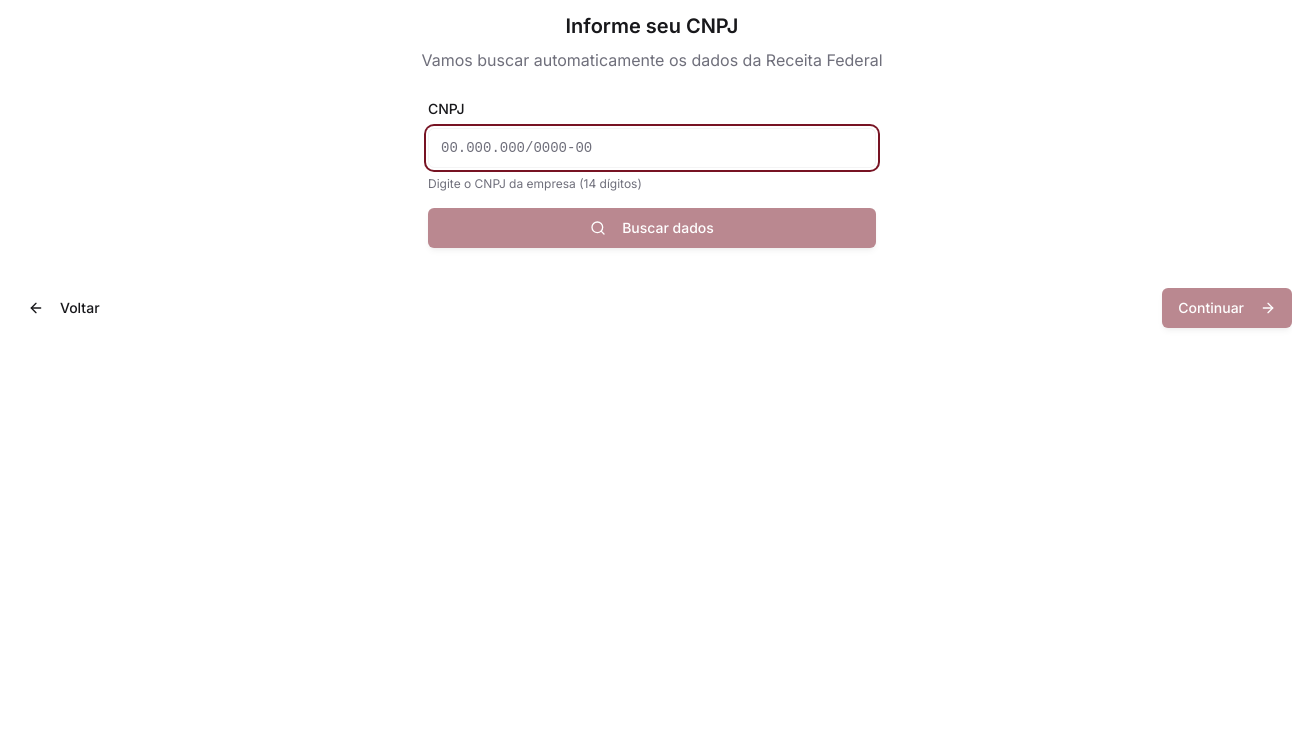
CnpjInput › search functionality › shows preview data after successful search
Type "11222333000181" into the field labelled "CNPJ" at (652, 148), box 428,128 -> 876,168
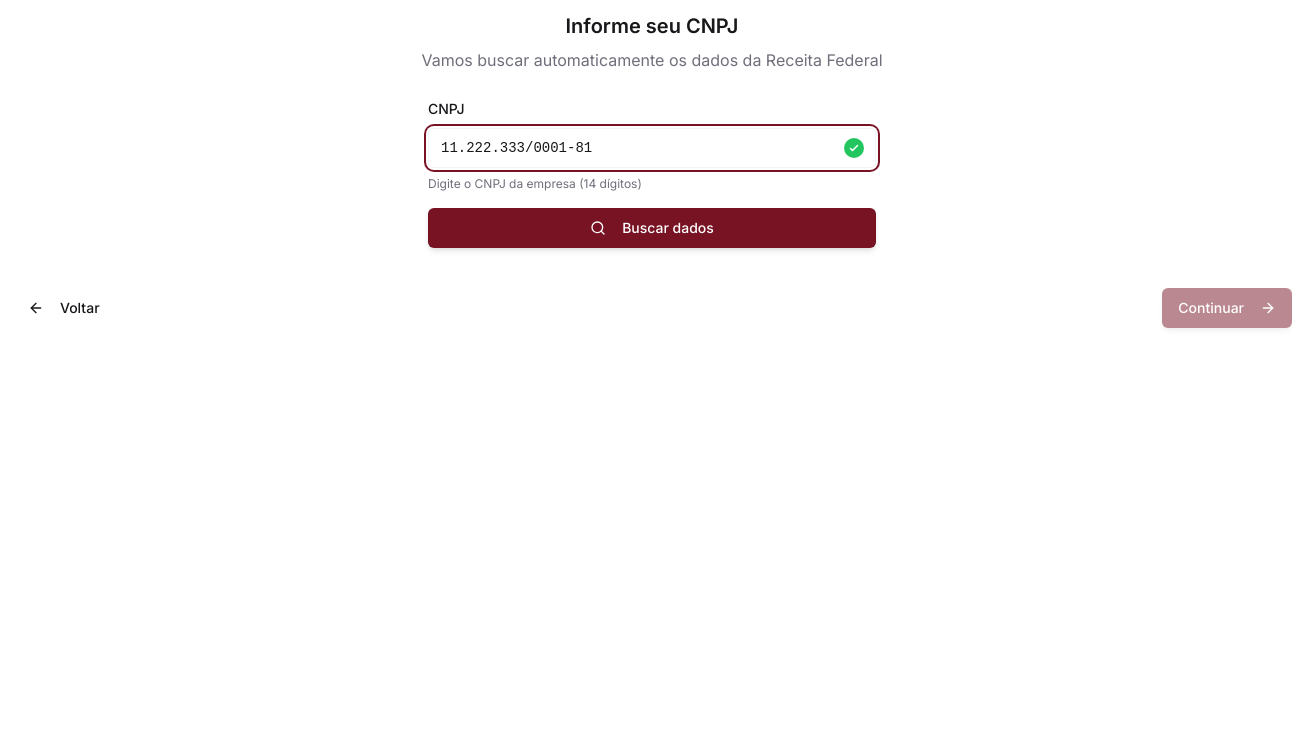
Click the button "Buscar dados" at (652, 228), box 428,208 -> 876,248
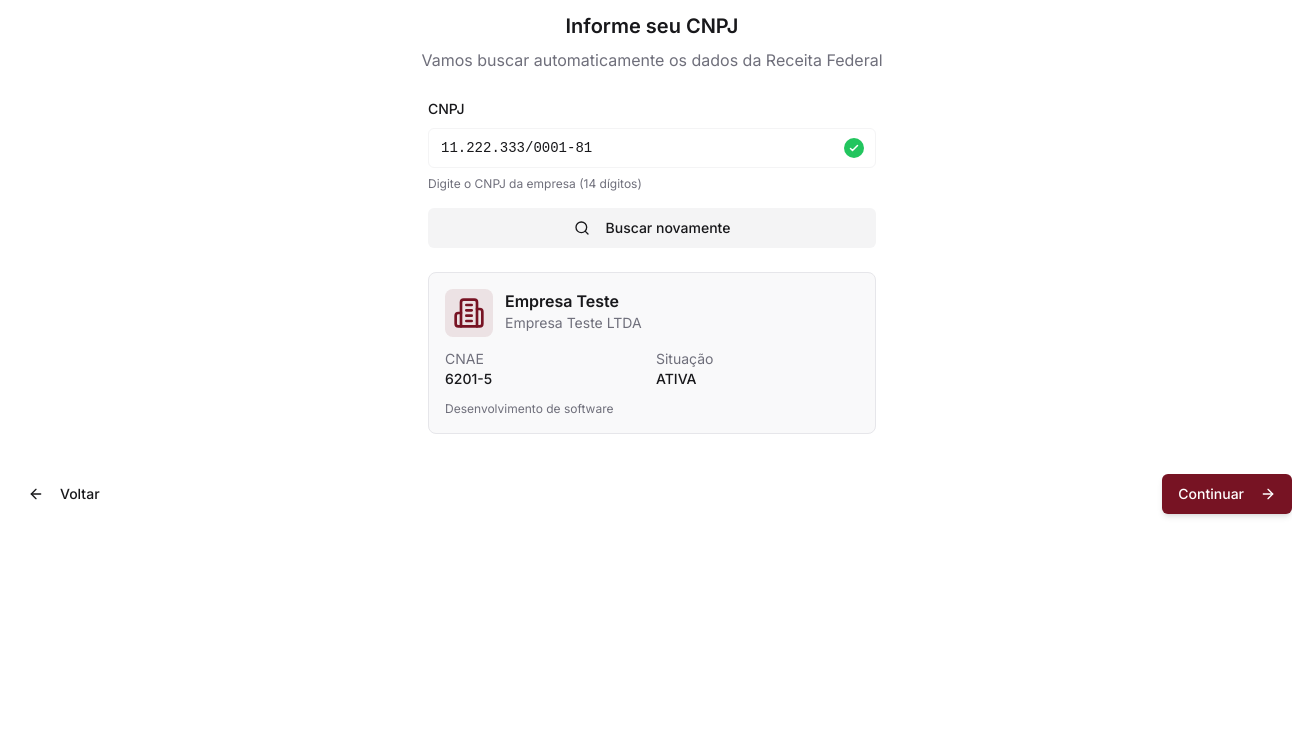
Result: the heading "Empresa Teste" is shown at 505,291 -> 619,311
Result: the text "Empresa Teste LTDA" is shown at 505,314 -> 642,331
